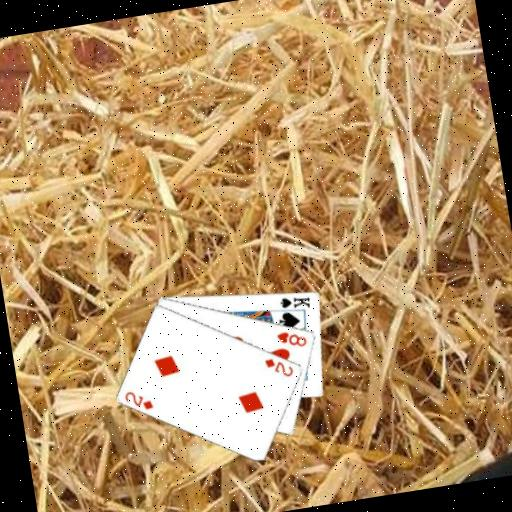2D: (261, 352, 296, 382), (120, 384, 155, 414)
8H: (273, 325, 309, 352)
KS: (275, 290, 312, 313)
